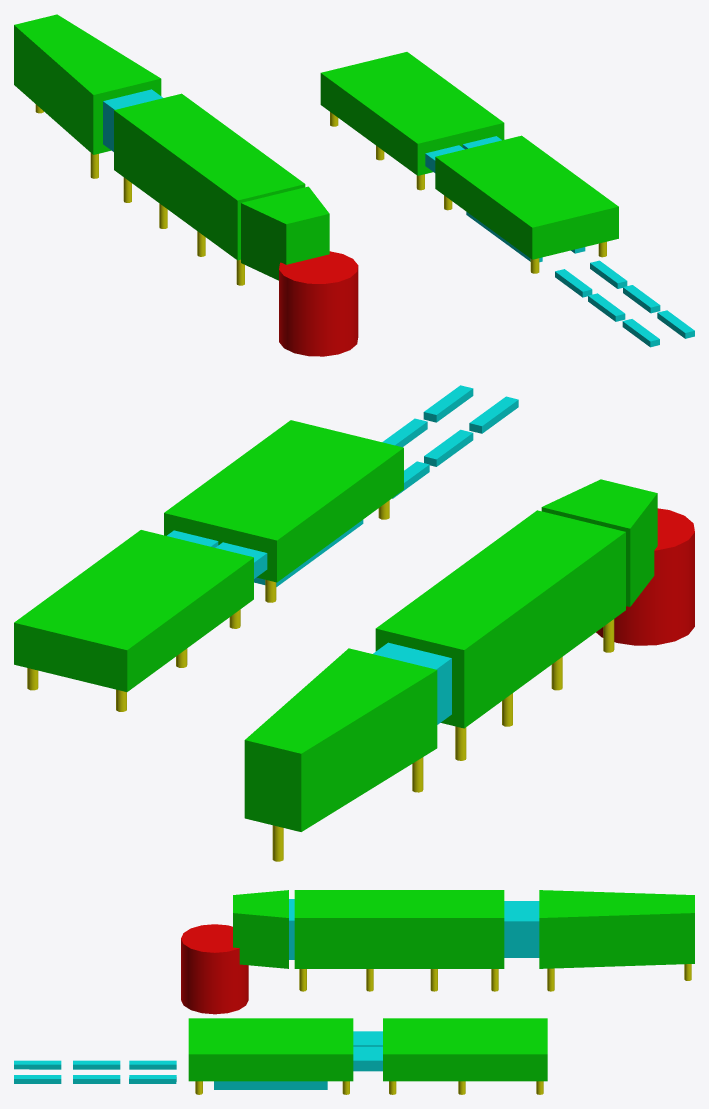
The model's file is CWR_Platforms_CloseBuildings_.fbx.
The picture shows the model from 3 angles, top to bottom: view 1: azimuth 30°, elevation 25°; view 2: azimuth 150°, elevation 25°; view 3: azimuth 270°, elevation 25°; orthographic projection. The views are drawn at different scales.
Visible parts, largest first — view 1: Platforms_BuildingClose_38, Platforms_BuildingClose_36, Platforms_BuildingClose_35, Platforms_BuildingClose_37, Platforms_BuildingClose_33, Platforms_BuildingClose_39, Platforms_BuildingClose_31; view 2: Platforms_BuildingClose_38, Platforms_BuildingClose_35, Platforms_BuildingClose_37, Platforms_BuildingClose_36, Platforms_BuildingClose_33, Platforms_BuildingClose_39, Platforms_BuildingClose_31, Platforms_BuildingClose_4, Platforms_BuildingClose_3, Platforms_BuildingClose_6; view 3: Platforms_BuildingClose_38, Platforms_BuildingClose_37, Platforms_BuildingClose_36, Platforms_BuildingClose_35, Platforms_BuildingClose_33, Platforms_BuildingClose_39, Platforms_BuildingClose_31, Platforms_BuildingClose_30, Platforms_BuildingClose_28, Platforms_BuildingClose_1, Platforms_BuildingClose_29, Platforms_BuildingClose_3 (+5 smaller).
Boxes of the visible parts, bbox=[...] form: Platforms_BuildingClose_38: bbox=[114, 93, 305, 260]; Platforms_BuildingClose_36: bbox=[435, 135, 618, 259]; Platforms_BuildingClose_35: bbox=[320, 52, 504, 175]; Platforms_BuildingClose_37: bbox=[14, 14, 161, 154]; Platforms_BuildingClose_33: bbox=[279, 251, 358, 356]; Platforms_BuildingClose_39: bbox=[241, 186, 329, 280]; Platforms_BuildingClose_31: bbox=[103, 89, 162, 151]; Platforms_BuildingClose_38: bbox=[375, 510, 625, 728]; Platforms_BuildingClose_35: bbox=[14, 530, 253, 691]; Platforms_BuildingClose_37: bbox=[244, 648, 437, 831]; Platforms_BuildingClose_36: bbox=[164, 420, 403, 582]; Platforms_BuildingClose_33: bbox=[596, 508, 694, 645]; Platforms_BuildingClose_39: bbox=[541, 479, 657, 606]; Platforms_BuildingClose_31: bbox=[373, 642, 451, 724]; Platforms_BuildingClose_4: bbox=[423, 385, 473, 422]; Platforms_BuildingClose_3: bbox=[469, 396, 518, 433]; Platforms_BuildingClose_6: bbox=[424, 429, 473, 466]; Platforms_BuildingClose_38: bbox=[294, 890, 504, 968]; Platforms_BuildingClose_37: bbox=[539, 890, 694, 968]; Platforms_BuildingClose_36: bbox=[188, 1018, 353, 1081]; Platforms_BuildingClose_35: bbox=[383, 1018, 547, 1081]; Platforms_BuildingClose_33: bbox=[181, 924, 248, 1014]; Platforms_BuildingClose_39: bbox=[233, 890, 288, 968]; Platforms_BuildingClose_31: bbox=[504, 901, 539, 957]; Platforms_BuildingClose_30: bbox=[214, 1081, 327, 1089]; Platforms_BuildingClose_28: bbox=[353, 1046, 382, 1071]; Platforms_BuildingClose_1: bbox=[129, 1060, 176, 1069]; Platforms_BuildingClose_29: bbox=[353, 1031, 382, 1046]; Platforms_BuildingClose_3: bbox=[14, 1060, 61, 1069].
Size of the model in its own units: 14365 by 4859 by 31260.
